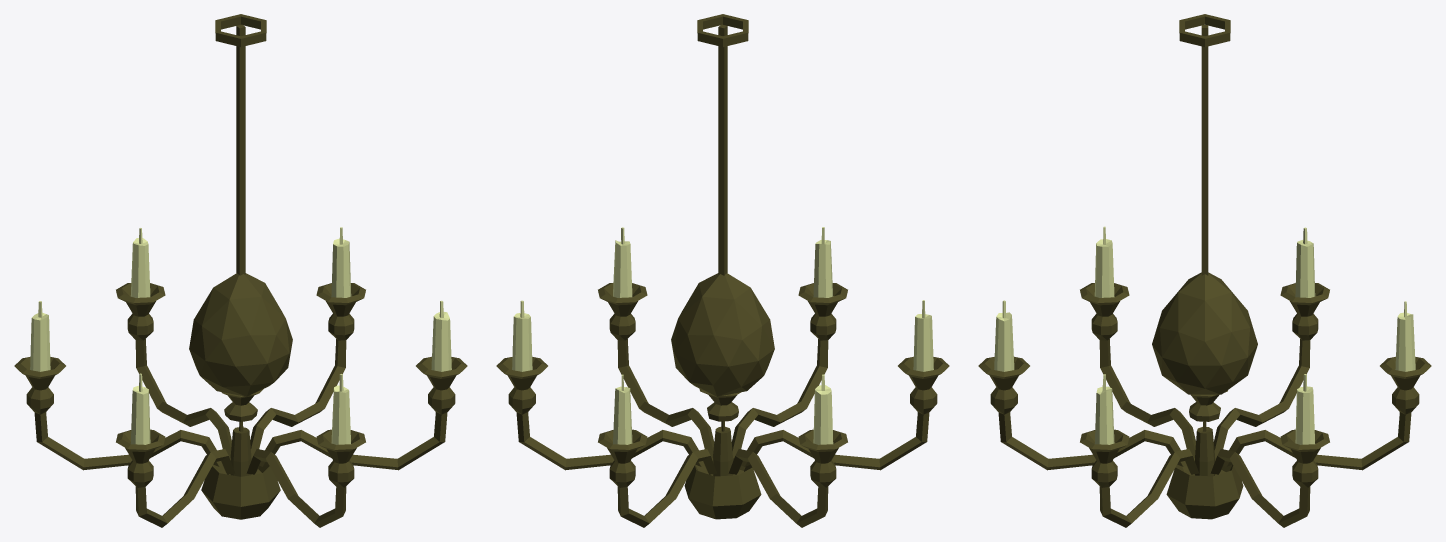
File: Chandelier.fbx
3 renders of one model, left to right at view 1: azimuth 30°, elevation 25°; view 2: azimuth 150°, elevation 25°; view 3: azimuth 270°, elevation 25°, orthographic.
Parts seen in each view (by area): view 1: chandelier.fbx; view 2: chandelier.fbx; view 3: chandelier.fbx.
Boxes of the visible parts, x1,y1,x2,y2 form: chandelier.fbx: [14, 14, 467, 527]; chandelier.fbx: [496, 14, 949, 527]; chandelier.fbx: [978, 14, 1431, 527].
Size of the model in its own units: 316 by 423 by 361.
